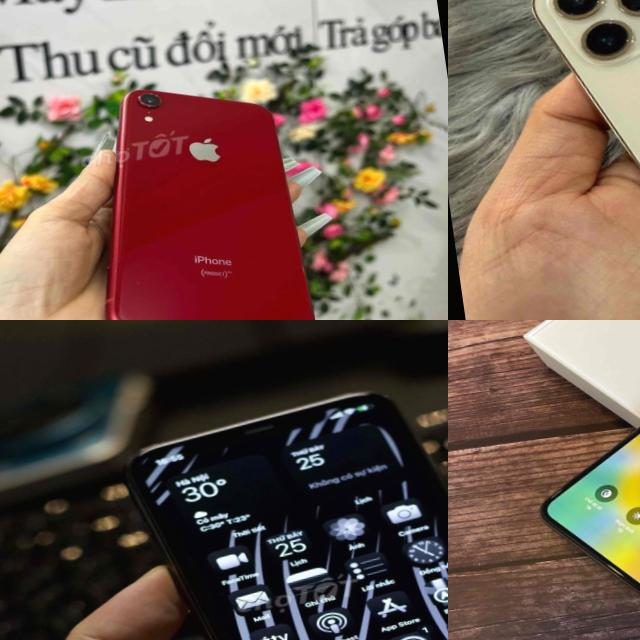gen_11: (127, 393, 448, 640)
gen_12_13: (516, 0, 640, 320)
gen_x_xs: (75, 63, 327, 320), (514, 320, 640, 612)
